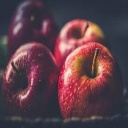apple: (2, 43, 61, 113)
